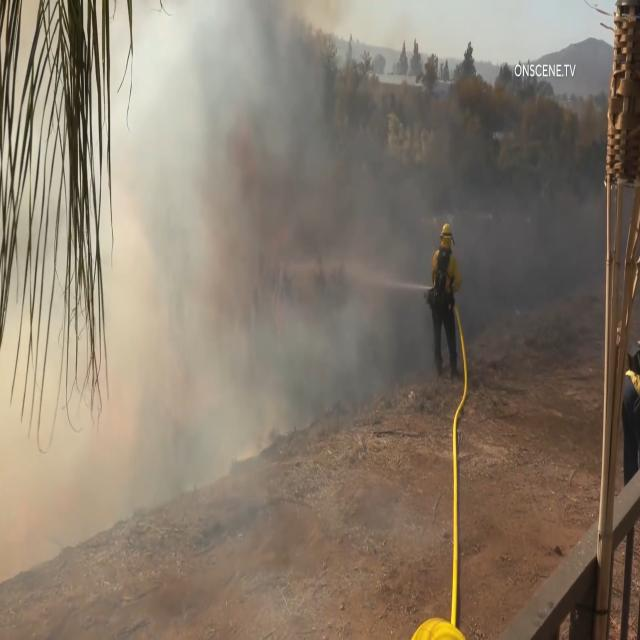smoke: (138, 9, 302, 232), (3, 474, 156, 640), (310, 119, 467, 238)
